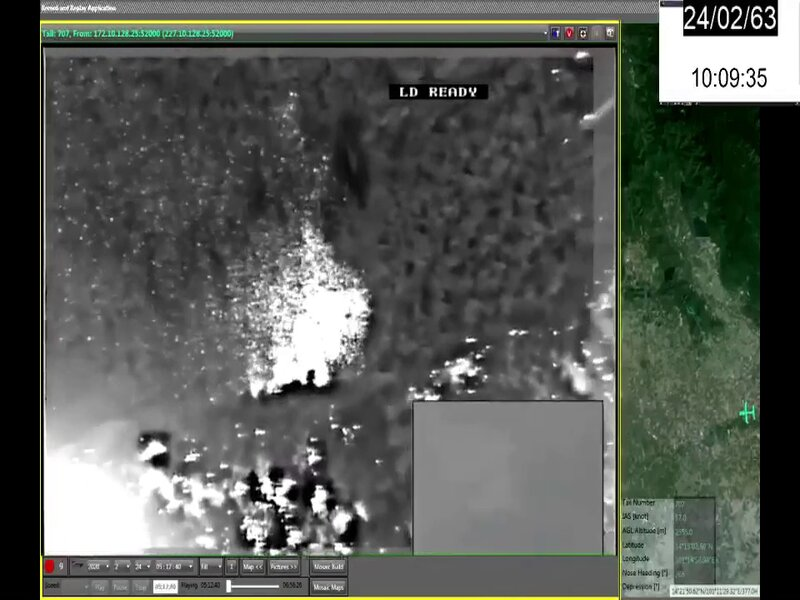Fire: (248, 220, 372, 399)
